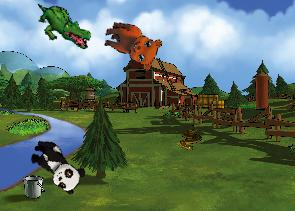bear: (98, 19, 164, 72)
crocodile: (30, 1, 96, 50)
panda: (23, 134, 89, 197)
